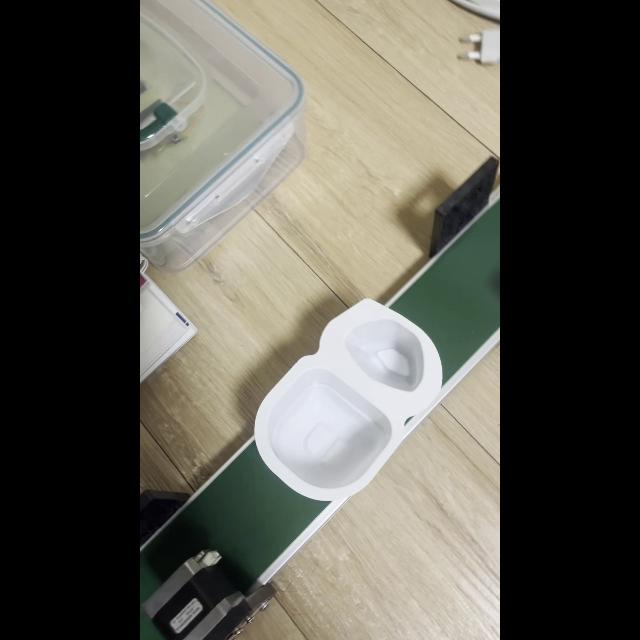clean: (252, 302, 444, 496)
